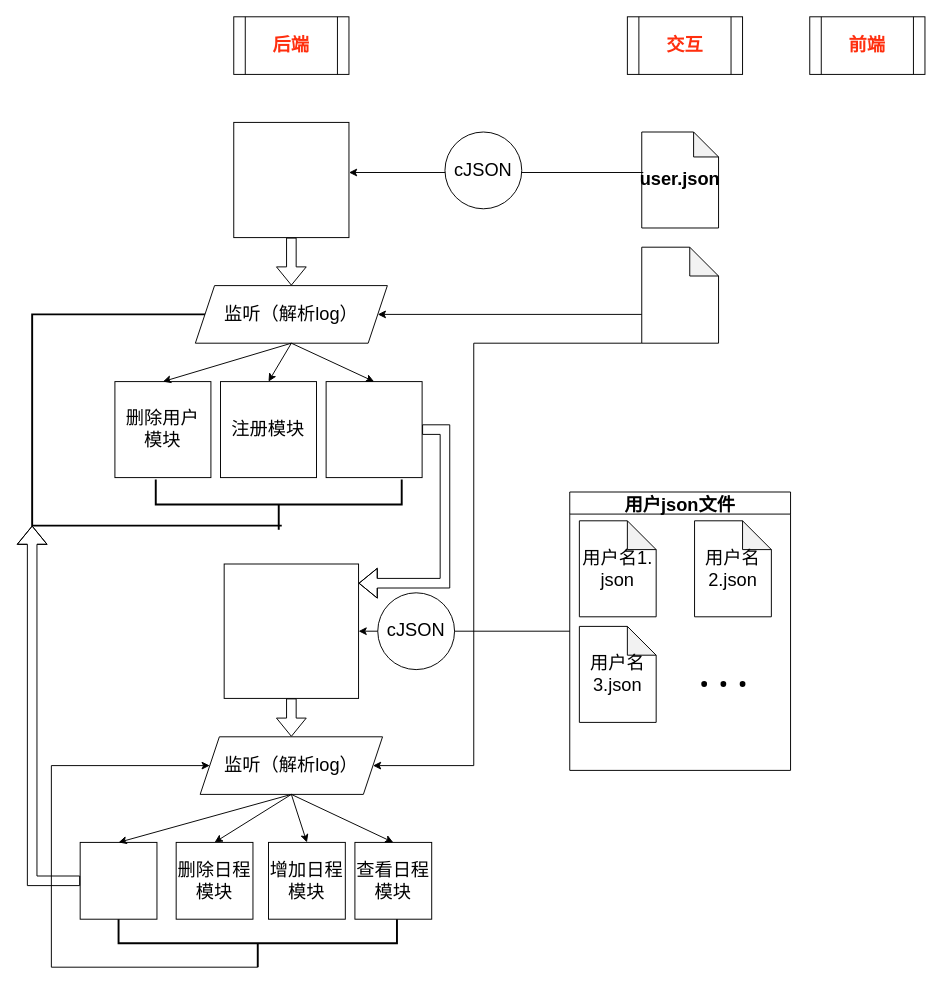
The diagram is 942 pixels wide and 992 high, and some of its shapes have lost their labels. Each missing label, with the centre of its shape:
"log" belongs at (680,294).
"生活日程 操作模块" belongs at (291,630).
"登录模块" belongs at (373,429).
"软件 初始化" belongs at (291,179).
"退出登录模块" belongs at (118,880).
